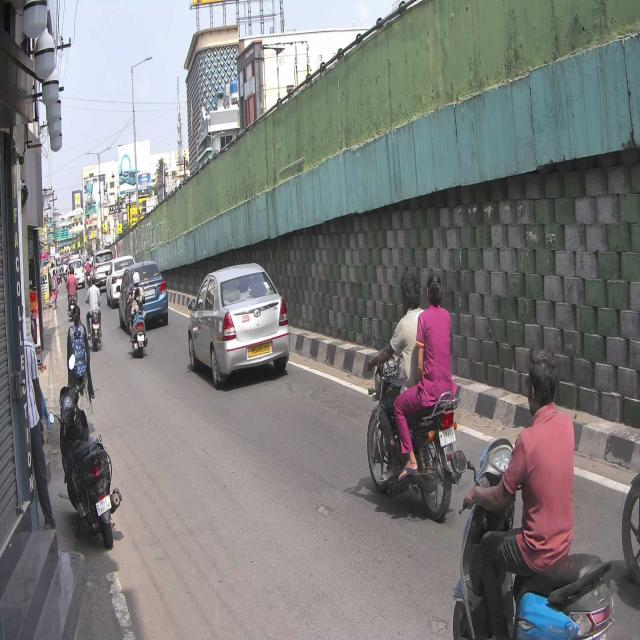double_rider: (362, 262, 463, 519)
single_rider: (468, 337, 603, 640)
